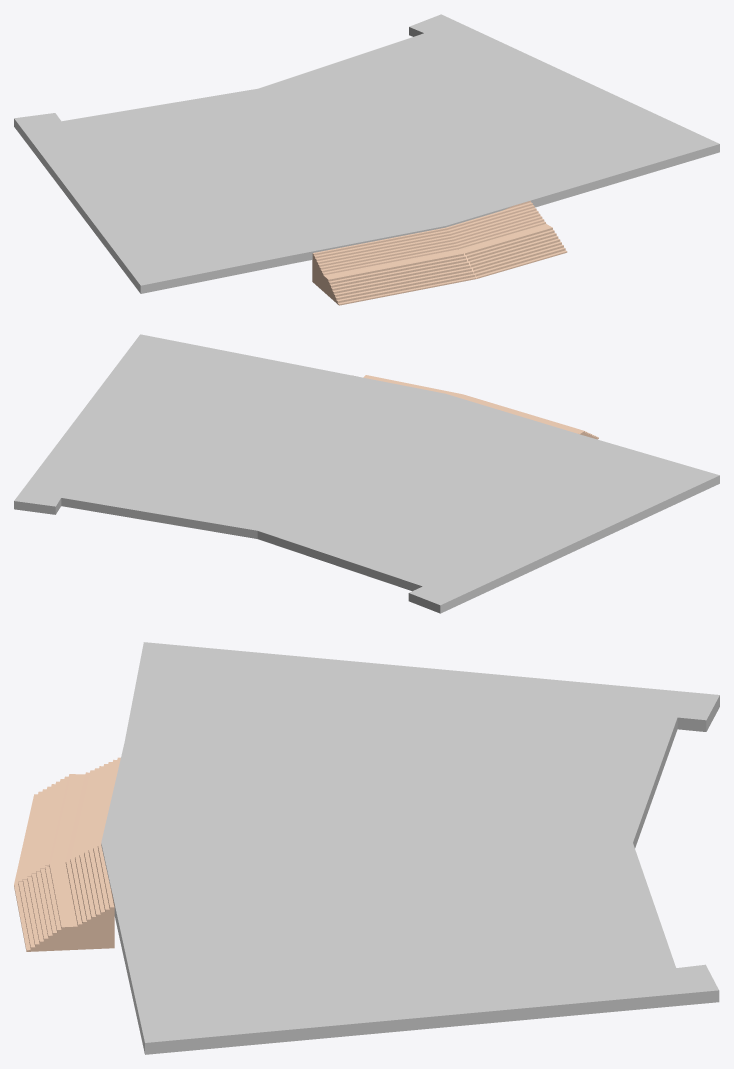
File: searchcentermodel_1f.glb
3 views of the same model, one above another, from view 1: azimuth 30°, elevation 25°; view 2: azimuth 150°, elevation 25°; view 3: azimuth 270°, elevation 25° (orthographic). The views are drawn at different scales.
Visible parts, largest first — view 1: 1f_base, stairs_1f; view 2: 1f_base, stairs_1f; view 3: 1f_base, stairs_1f.
Boxes of the visible parts, x1,y1,x2,y2 form: 1f_base: (14, 14, 719, 293); stairs_1f: (312, 200, 567, 305); 1f_base: (14, 334, 719, 613); stairs_1f: (363, 375, 598, 439); 1f_base: (101, 642, 719, 1054); stairs_1f: (14, 757, 120, 951).
Size of the model in its own units: 111 by 5.61 by 82.69.
